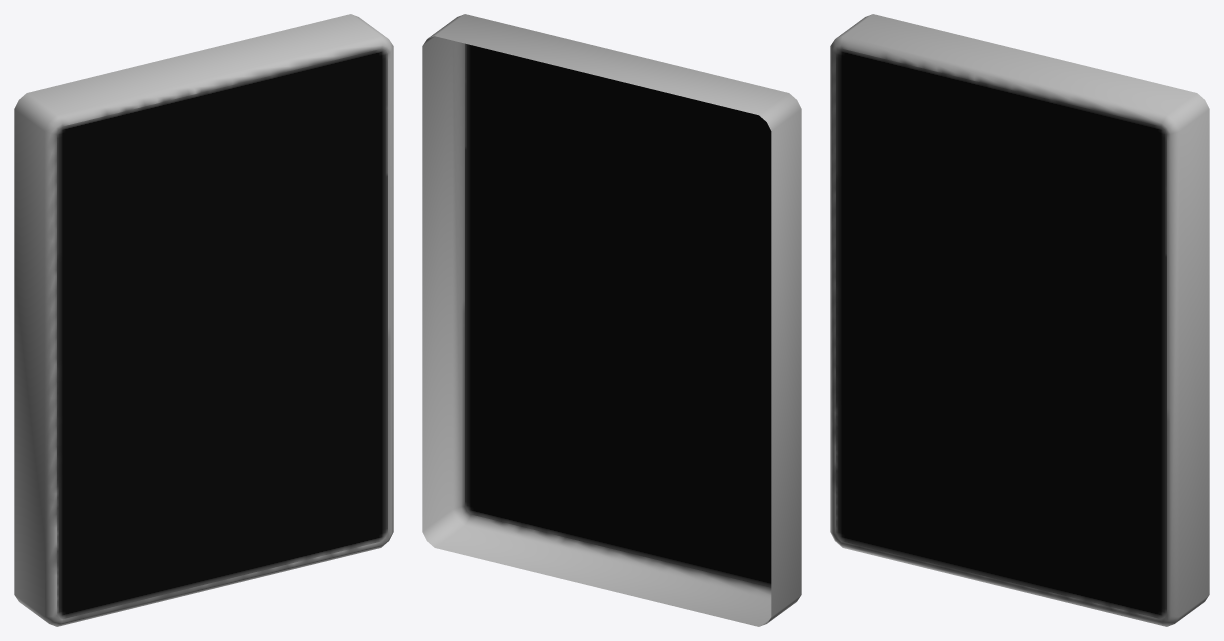
File: SensorLock.fbx
3 views of the same model, side by side, from view 1: azimuth 30°, elevation 25°; view 2: azimuth 150°, elevation 25°; view 3: azimuth 330°, elevation 25° (orthographic).
Visible parts, largest first — view 1: SensorLock; view 2: SensorLock; view 3: SensorLock.
Boxes of the visible parts, x1,y1,x2,y2 form: SensorLock: (14, 14, 393, 626); SensorLock: (422, 14, 801, 626); SensorLock: (830, 14, 1209, 626).
Size of the model in its own units: 25 by 35 by 4.16.
